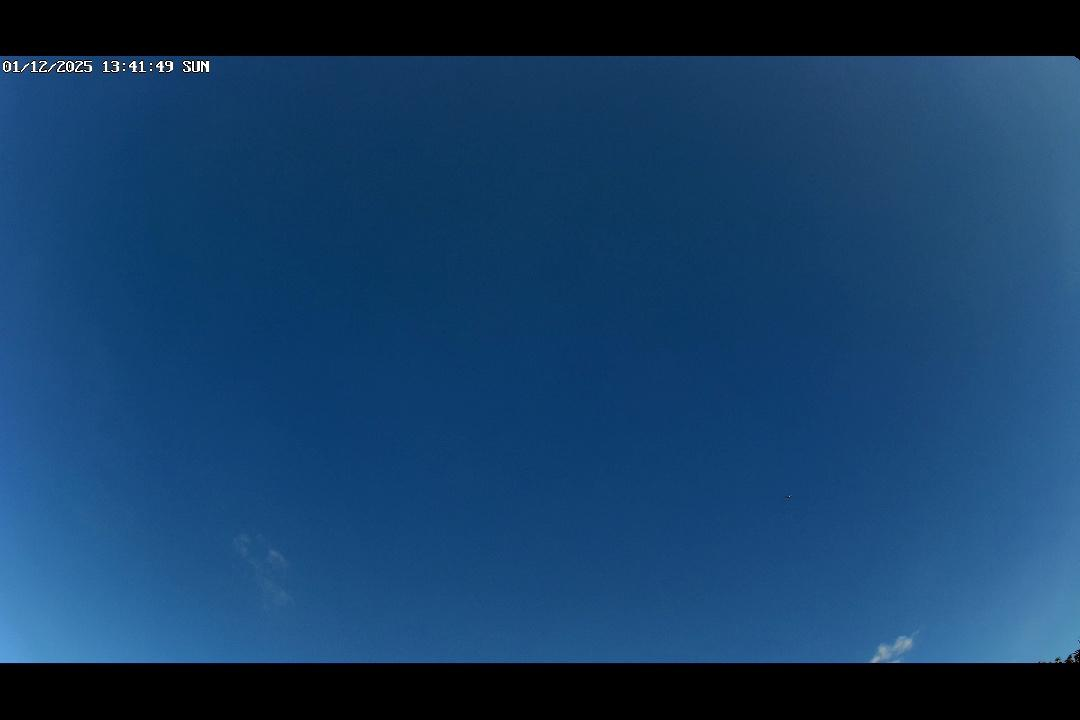Plane: (780, 490, 797, 505)
